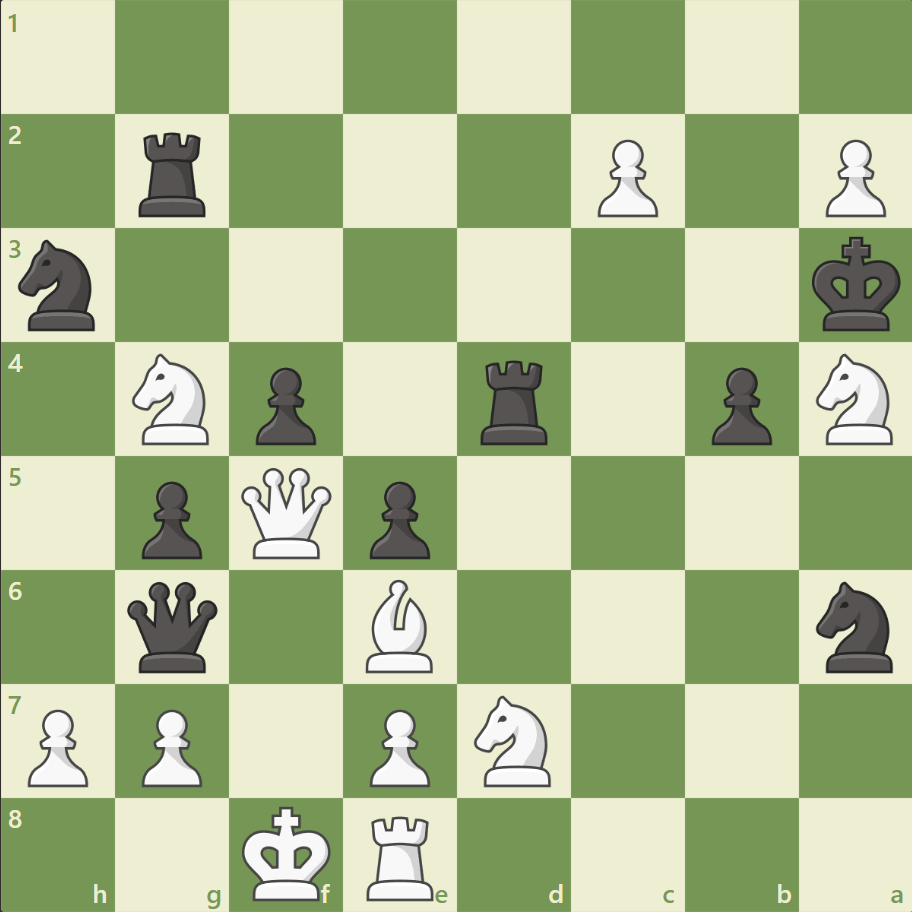B: (358, 574, 442, 676)
K: (238, 798, 338, 906)
N: (124, 348, 222, 450), (465, 688, 562, 791), (806, 348, 903, 450)
P: (133, 700, 208, 791), (20, 700, 95, 791), (361, 700, 435, 791), (815, 132, 889, 223), (588, 132, 662, 223)
Q: (237, 463, 336, 562)
R: (360, 806, 442, 904)
k: (806, 231, 906, 339)
n: (11, 234, 108, 337), (806, 575, 903, 677)
p: (133, 473, 208, 564), (701, 359, 776, 450), (247, 359, 322, 450), (361, 473, 435, 564)
q: (124, 576, 223, 676)
r: (473, 352, 556, 449), (133, 125, 215, 222)
